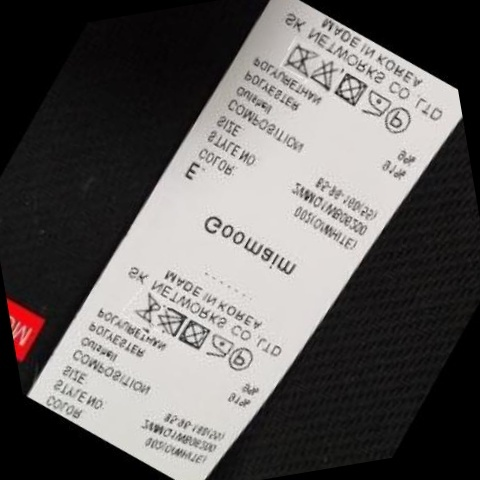DN_bleach: (308, 57, 339, 92), (155, 306, 187, 339)
DN_tumble_dry: (329, 67, 369, 110), (175, 318, 210, 353)
DN_wash: (283, 41, 318, 79), (129, 292, 162, 322)
dry_clean_any_solvent_except_trichloroethylene: (381, 105, 413, 137), (225, 344, 256, 374)
iron_low: (361, 89, 391, 119), (204, 332, 233, 359)
